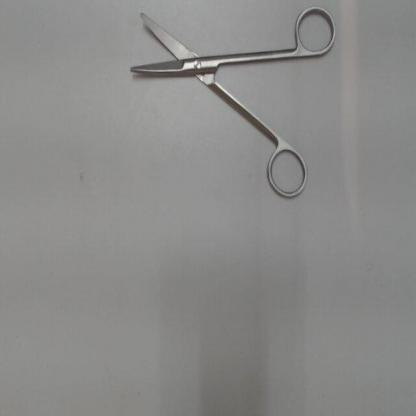Curved Mayo Scissors: (122, 3, 343, 213)
